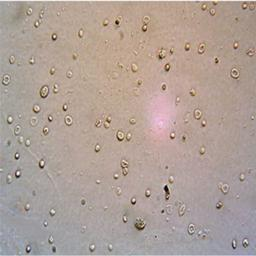Yeast: (0, 0, 256, 256), (0, 0, 250, 251)
